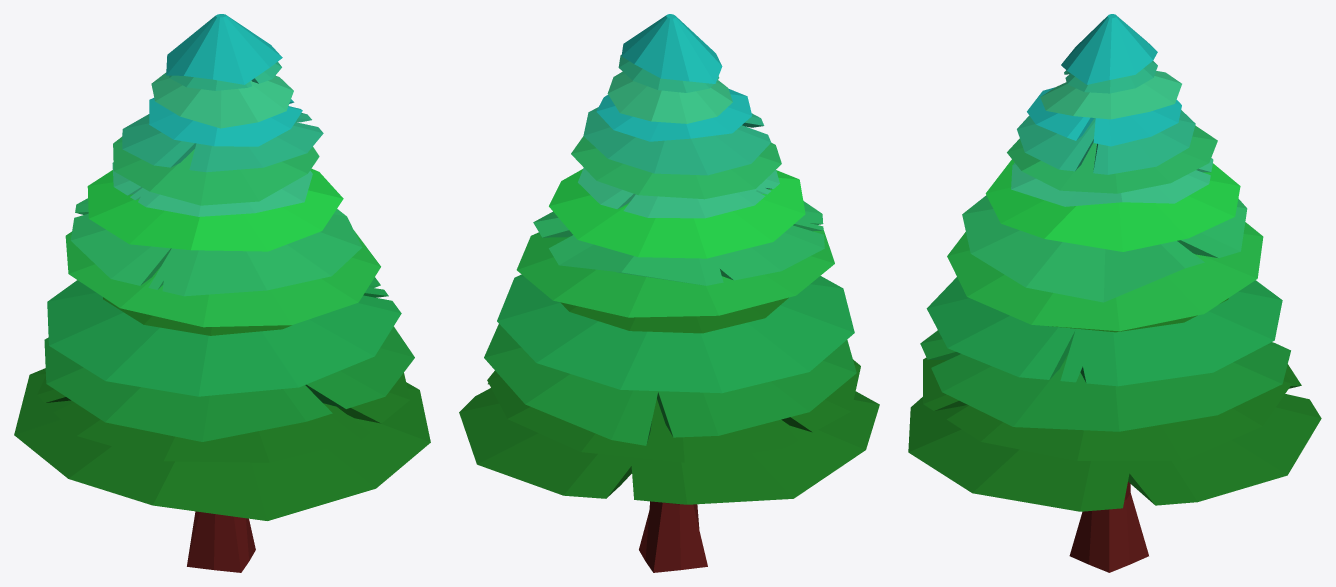
File: ManaTree.fbx
3 renders of one model, left to right at view 1: azimuth 30°, elevation 25°; view 2: azimuth 150°, elevation 25°; view 3: azimuth 270°, elevation 25°, orthographic.
Visible parts, largest first — view 1: Cylinder, Cylinder.003, Cylinder.002, Cylinder.006, Cylinder.005, Cylinder.007, Cylinder.001, Cylinder.009, Cylinder.010, Cylinder.014, Cylinder.012, Cylinder.011 (+4 smaller); view 2: Cylinder.003, Cylinder, Cylinder.002, Cylinder.005, Cylinder.007, Cylinder.001, Cylinder.006, Cylinder.010, Cylinder.009, Cylinder.014, Cylinder.008, Cylinder.012 (+4 smaller); view 3: Cylinder, Cylinder.003, Cylinder.002, Cylinder.005, Cylinder.006, Cylinder.001, Cylinder.007, Cylinder.010, Cylinder.009, Cylinder.014, Cube, Cylinder.012 (+3 smaller).
Boxes of the visible parts, bbox=[...] form: Cylinder: bbox=[14, 368, 430, 520]; Cylinder.003: bbox=[47, 277, 401, 396]; Cylinder.002: bbox=[44, 326, 414, 441]; Cylinder.006: bbox=[70, 198, 362, 296]; Cylinder.005: bbox=[65, 230, 380, 327]; Cylinder.007: bbox=[87, 168, 343, 251]; Cylinder.001: bbox=[37, 373, 410, 462]; Cylinder.009: bbox=[113, 136, 319, 205]; Cylinder.010: bbox=[122, 113, 323, 172]; Cylinder.014: bbox=[166, 14, 282, 84]; Cylinder.012: bbox=[151, 72, 293, 128]; Cylinder.011: bbox=[149, 98, 302, 146]; Cylinder.003: bbox=[497, 274, 854, 393]; Cylinder: bbox=[459, 383, 879, 504]; Cylinder.002: bbox=[484, 324, 856, 445]; Cylinder.005: bbox=[516, 230, 834, 317]; Cylinder.007: bbox=[549, 169, 805, 258]; Cylinder.001: bbox=[487, 359, 860, 462]; Cylinder.006: bbox=[533, 201, 824, 285]; Cylinder.010: bbox=[583, 107, 771, 175]; Cylinder.009: bbox=[571, 136, 781, 199]; Cylinder.014: bbox=[621, 14, 722, 83]; Cylinder.008: bbox=[578, 168, 779, 218]; Cylinder.012: bbox=[607, 71, 732, 123]; Cylinder: bbox=[908, 364, 1321, 511]; Cylinder.003: bbox=[926, 277, 1282, 386]; Cylinder.002: bbox=[920, 330, 1290, 431]; Cylinder.005: bbox=[947, 222, 1263, 331]; Cylinder.006: bbox=[962, 195, 1247, 302]; Cylinder.001: bbox=[923, 357, 1291, 460]; Cylinder.007: bbox=[985, 159, 1240, 251]; Cylinder.010: bbox=[1017, 110, 1195, 174]; Cylinder.009: bbox=[1007, 125, 1217, 193]; Cylinder.014: bbox=[1061, 14, 1157, 84]; Cube: bbox=[1069, 482, 1148, 572]; Cylinder.012: bbox=[1040, 71, 1181, 119].
Size of the model in its own units: 3460 by 5022 by 3479.
